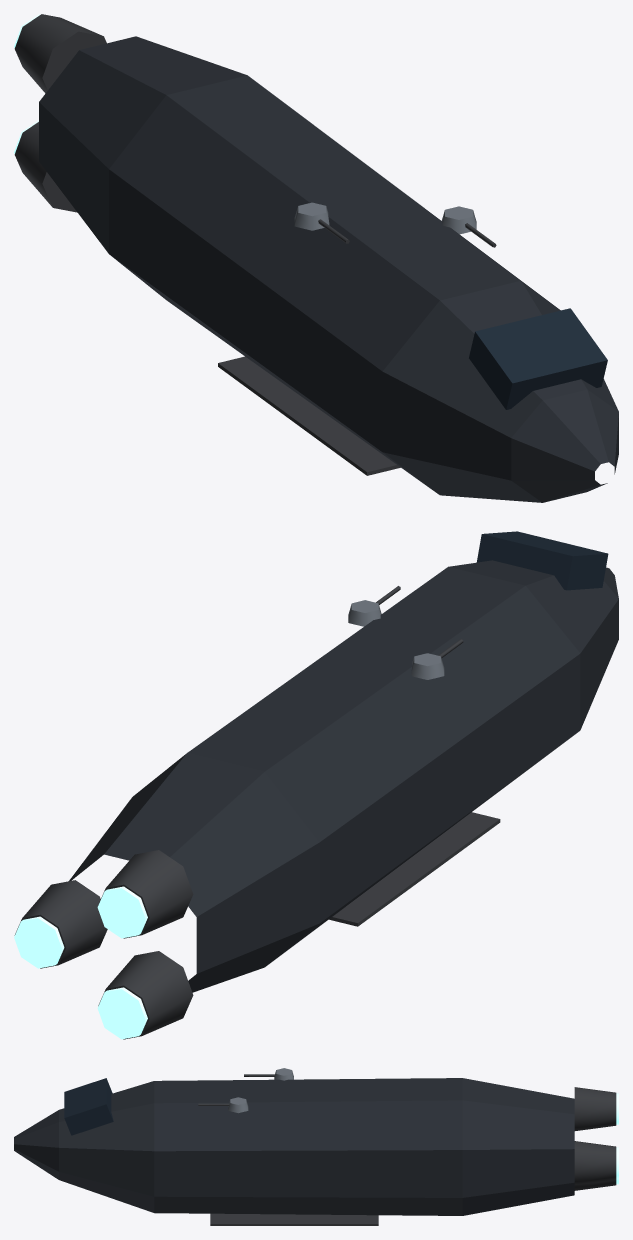
File: space_ship_transport_mk4.glb
3 renders of one model, top to bottom at view 1: azimuth 30°, elevation 25°; view 2: azimuth 150°, elevation 25°; view 3: azimuth 270°, elevation 25°, orthographic. The views are drawn at different scales.
Visible parts, largest first — view 1: body, hangar_door, engine_1, engine_2, turret_1, turret_0; view 2: body, engine_1, engine_2, engine_0, hangar_door, turret_1, turret_0; view 3: body, hangar_door, engine_1, engine_0, turret_0, turret_1, engine_2.
Boxes of the visible parts, <box> form: body: <box>39,36,618,502</box>; hangar_door: <box>218,356,400,475</box>; engine_1: <box>14,14,106,93</box>; engine_2: <box>14,120,77,212</box>; turret_1: <box>294,202,349,243</box>; turret_0: <box>441,206,496,247</box>; body: <box>69,531,618,992</box>; engine_1: <box>97,850,193,938</box>; engine_2: <box>97,951,193,1039</box>; engine_0: <box>14,880,107,968</box>; hangar_door: <box>329,812,500,926</box>; turret_1: <box>411,639,463,679</box>; turret_0: <box>348,586,400,626</box>; body: <box>14,1078,574,1215</box>; hangar_door: <box>210,1213,378,1225</box>; engine_1: <box>574,1087,618,1130</box>; engine_0: <box>574,1141,618,1184</box>; turret_0: <box>198,1097,248,1113</box>; turret_1: <box>244,1068,293,1080</box>; engine_2: <box>574,1178,618,1190</box>.
Size of what is drawn, in the model's own units: 5.57 by 5.87 by 26.41.
